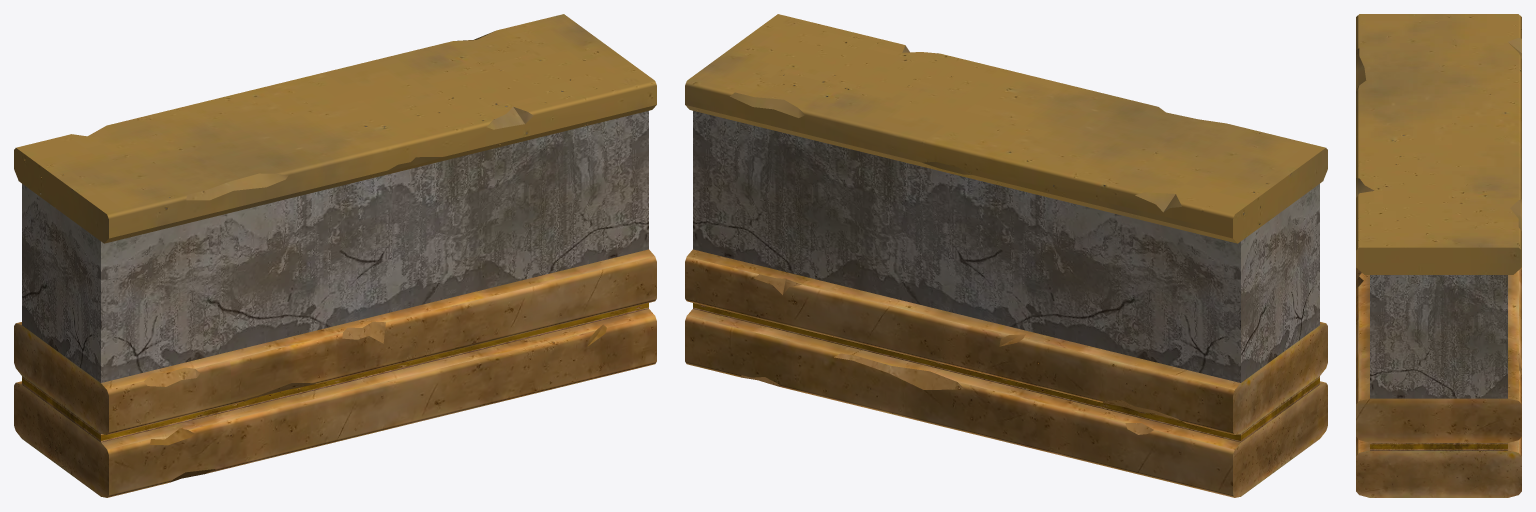
3 views of the same model, side by side, from view 1: azimuth 30°, elevation 25°; view 2: azimuth 150°, elevation 25°; view 3: azimuth 270°, elevation 25° (orthographic). The views are drawn at different scales.
Parts seen in each view (by area): view 1: SM_Vault_2x1_Wall_02_LOD0; view 2: SM_Vault_2x1_Wall_02_LOD0; view 3: SM_Vault_2x1_Wall_02_LOD0.
Boxes of the visible parts, x1,y1,x2,y2 form: SM_Vault_2x1_Wall_02_LOD0: (14,14,656,497); SM_Vault_2x1_Wall_02_LOD0: (685,14,1327,497); SM_Vault_2x1_Wall_02_LOD0: (1356,14,1521,497).
Bounding box in the file's own units: 2 × 1 × 0.6.
3 materials, 3 textured.
